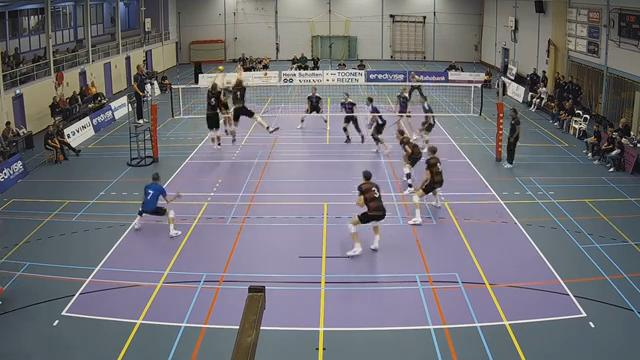Attack: (215, 71, 237, 139)
Block: (232, 62, 279, 143), (202, 68, 224, 148)
Player: (347, 170, 385, 256), (134, 173, 180, 236), (409, 145, 443, 224), (396, 129, 421, 193), (367, 97, 388, 153), (341, 93, 364, 142), (419, 101, 435, 151), (306, 87, 327, 123), (396, 87, 409, 128)
ball: (217, 64, 224, 71)
